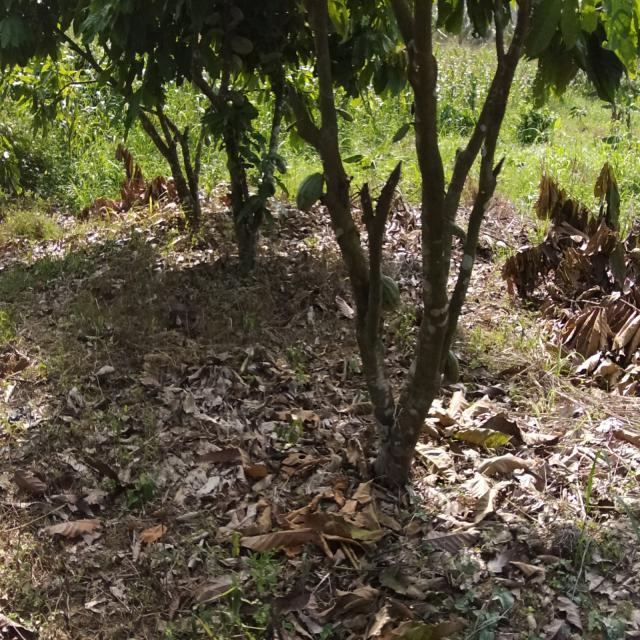Immature: (388, 121, 415, 151), (335, 103, 355, 126)
Mature_Unripe: (370, 266, 408, 316), (296, 169, 328, 213), (437, 341, 467, 385), (230, 36, 260, 72)
